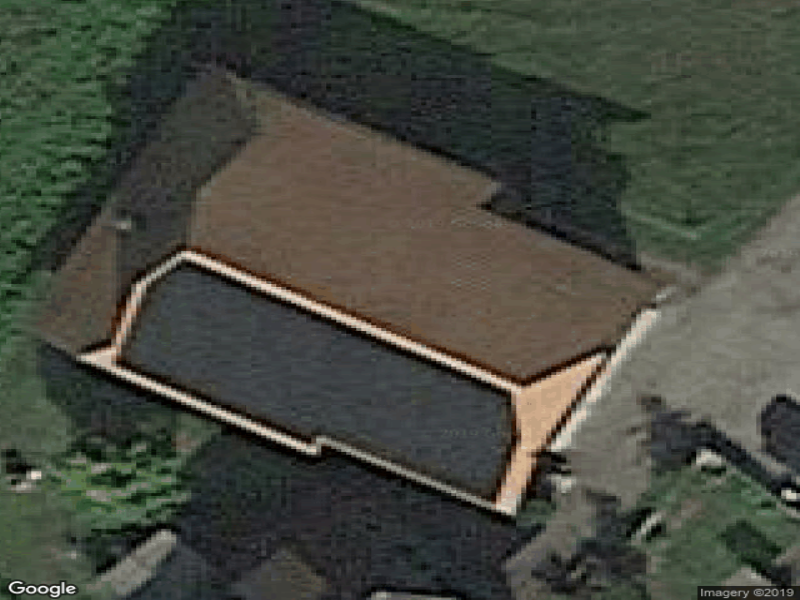pv: (119, 263, 517, 505)
